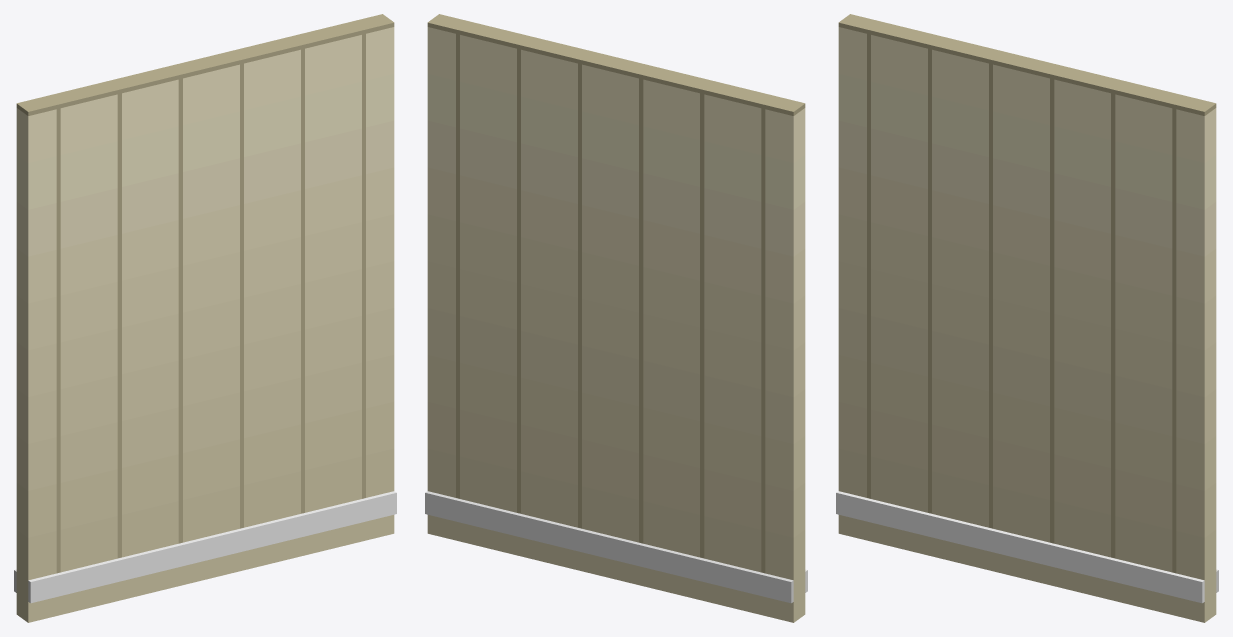
File: wall30.obj
3 views of the same model, side by side, from view 1: azimuth 30°, elevation 25°; view 2: azimuth 150°, elevation 25°; view 3: azimuth 330°, elevation 25° (orthographic).
Size of the model in its own units: 9 by 12 by 0.7.
Materials: 1 (1 with a texture image).
